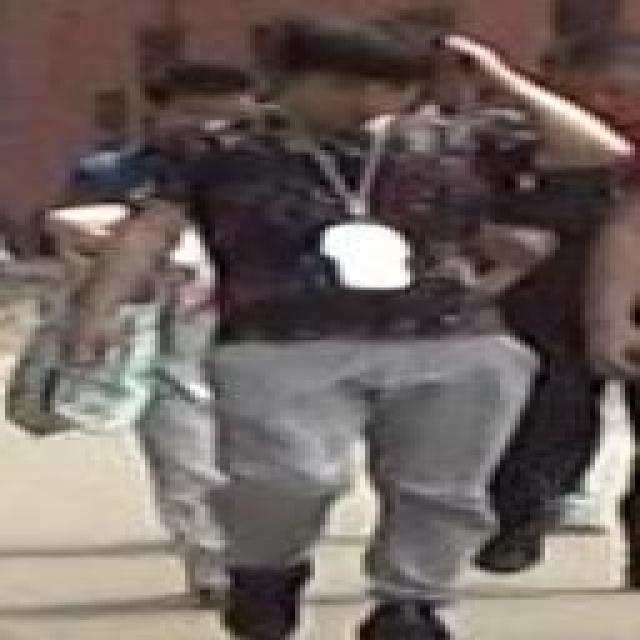adult: (95, 20, 595, 640), (58, 67, 317, 543), (522, 63, 640, 577)
